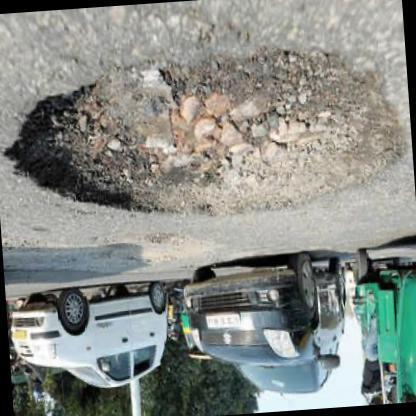pothole: (7, 32, 411, 218)
